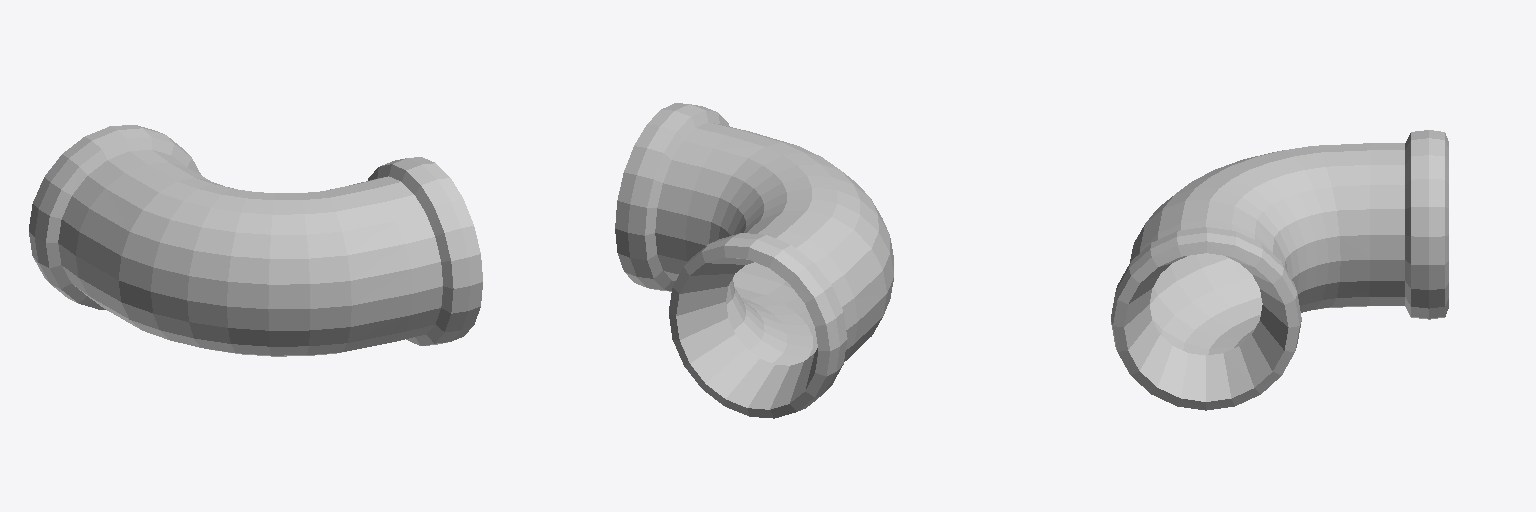
File: PuzzlePieceCurved.obj
3 views of the same model, side by side, from view 1: azimuth 30°, elevation 25°; view 2: azimuth 150°, elevation 25°; view 3: azimuth 270°, elevation 25° (orthographic).
Visible parts, largest first — view 1: PuzzlePieceCurved group1; view 2: PuzzlePieceCurved group1; view 3: PuzzlePieceCurved group1.
Boxes of the visible parts, x1,y1,x2,y2 form: PuzzlePieceCurved group1: [29, 125, 482, 356]; PuzzlePieceCurved group1: [615, 103, 893, 418]; PuzzlePieceCurved group1: [1111, 130, 1448, 410].
Bounding box in the file's own units: 69.65 × 39.3 × 69.57.